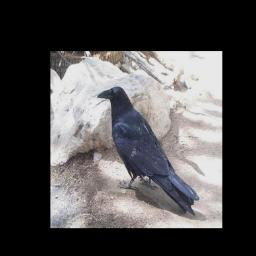Crow: (95, 84, 198, 217)
